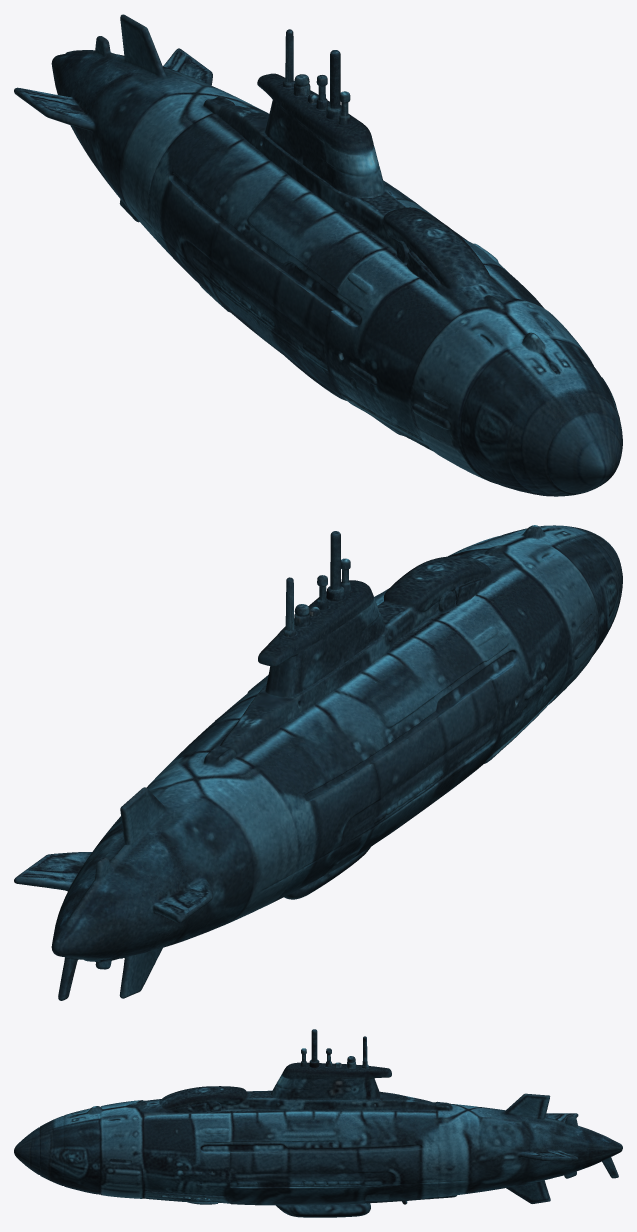
Rendered from hydro-sub-skiff.glb.
The picture shows the model from 3 angles, top to bottom: view 1: azimuth 30°, elevation 25°; view 2: azimuth 150°, elevation 25°; view 3: azimuth 270°, elevation 25°; orthographic projection. The views are drawn at different scales.
Visible parts, largest first — view 1: hydro-sub-skiff; view 2: hydro-sub-skiff; view 3: hydro-sub-skiff.
Boxes of the visible parts, x1,y1,x2,y2 form: hydro-sub-skiff: (14, 14, 622, 496); hydro-sub-skiff: (14, 525, 622, 1000); hydro-sub-skiff: (14, 1029, 622, 1217).
Size of the model in its own units: 1.68 by 3.05 by 9.
Materials: 1 (1 with a texture image).
